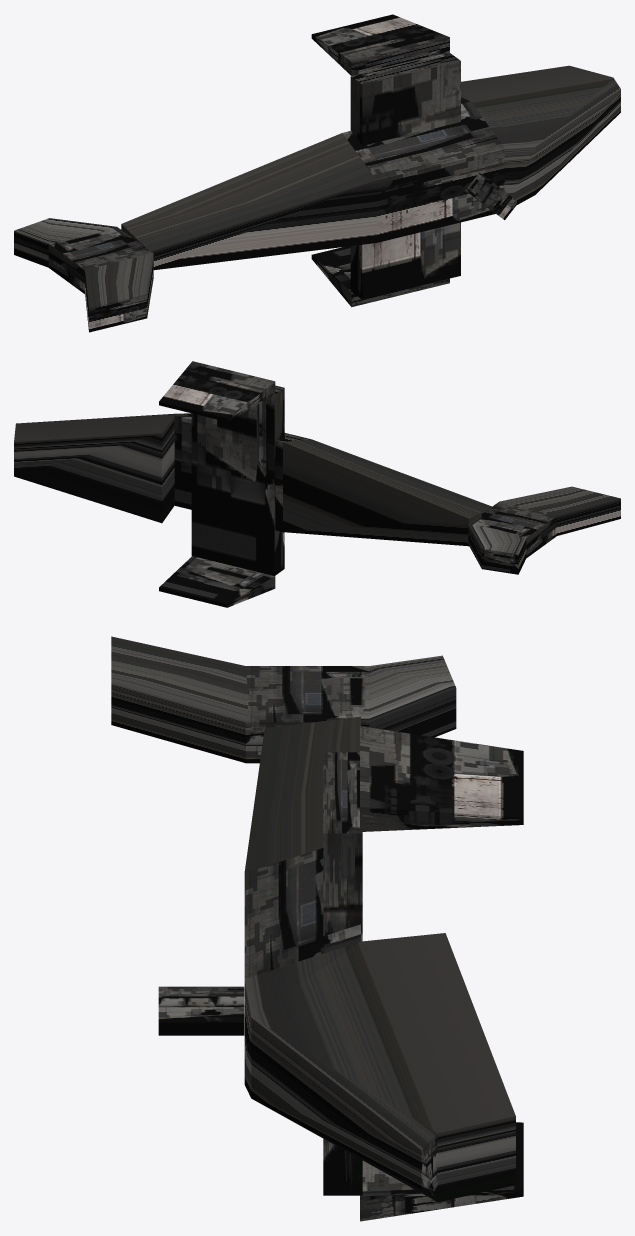
Rendered from veh_t6_drone_supply_alt_LOD1.obj.
3 views of the same model, one above another, from view 1: azimuth 30°, elevation 25°; view 2: azimuth 150°, elevation 25°; view 3: azimuth 270°, elevation 25° (orthographic). The views are drawn at different scales.
Parts seen in each view (by area): view 1: mtl_veh_t6_drone_supply_alt; view 2: mtl_veh_t6_drone_supply_alt; view 3: mtl_veh_t6_drone_supply_alt.
Boxes of the visible parts, x1,y1,x2,y2 form: mtl_veh_t6_drone_supply_alt: (14, 14, 620, 332); mtl_veh_t6_drone_supply_alt: (14, 361, 620, 607); mtl_veh_t6_drone_supply_alt: (111, 636, 523, 1221).
Size of the model in its own units: 563 by 212 by 191.
